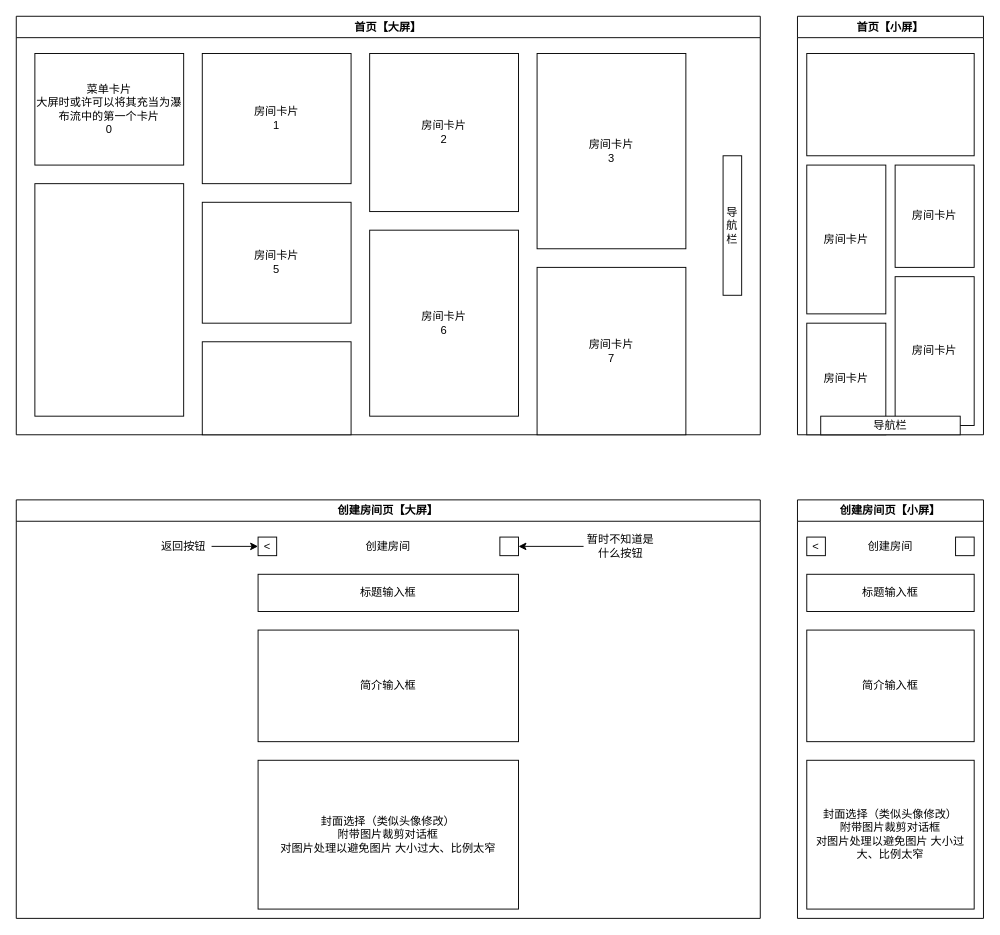
The diagram is 1000 pixels wide and 935 high, and some of its shapes have lost their labels. The centre of each missing label's shape, as x and y in pixels:
房间卡片 4: [109,299]
房间卡片 8: [276,388]
菜单卡片 小屏时在顶部: [890,104]
